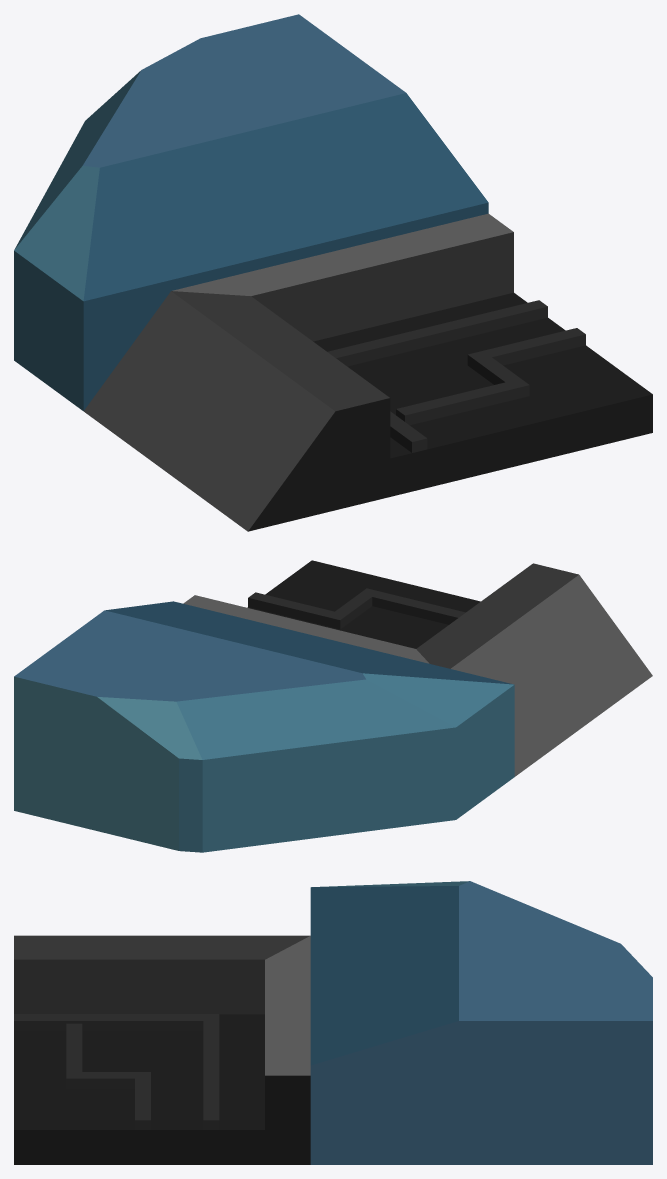
Rendered from newsho-39.glb.
3 renders of one model, top to bottom at view 1: azimuth 30°, elevation 25°; view 2: azimuth 150°, elevation 25°; view 3: azimuth 270°, elevation 25°, orthographic. The views are drawn at different scales.
Visible parts, largest first — view 1: newsho-39; view 2: newsho-39; view 3: newsho-39.
Part boxes in pixels (x1=…): newsho-39: x1=14, y1=14, x2=652, y2=531; newsho-39: x1=14, y1=560, x2=652, y2=852; newsho-39: x1=14, y1=881, x2=652, y2=1164.
Bounding box in the file's own units: 1.54 × 0.58 × 2.33.
